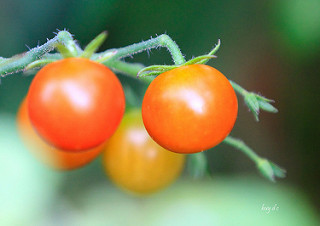tomato: (28, 56, 120, 153), (145, 63, 239, 151)
